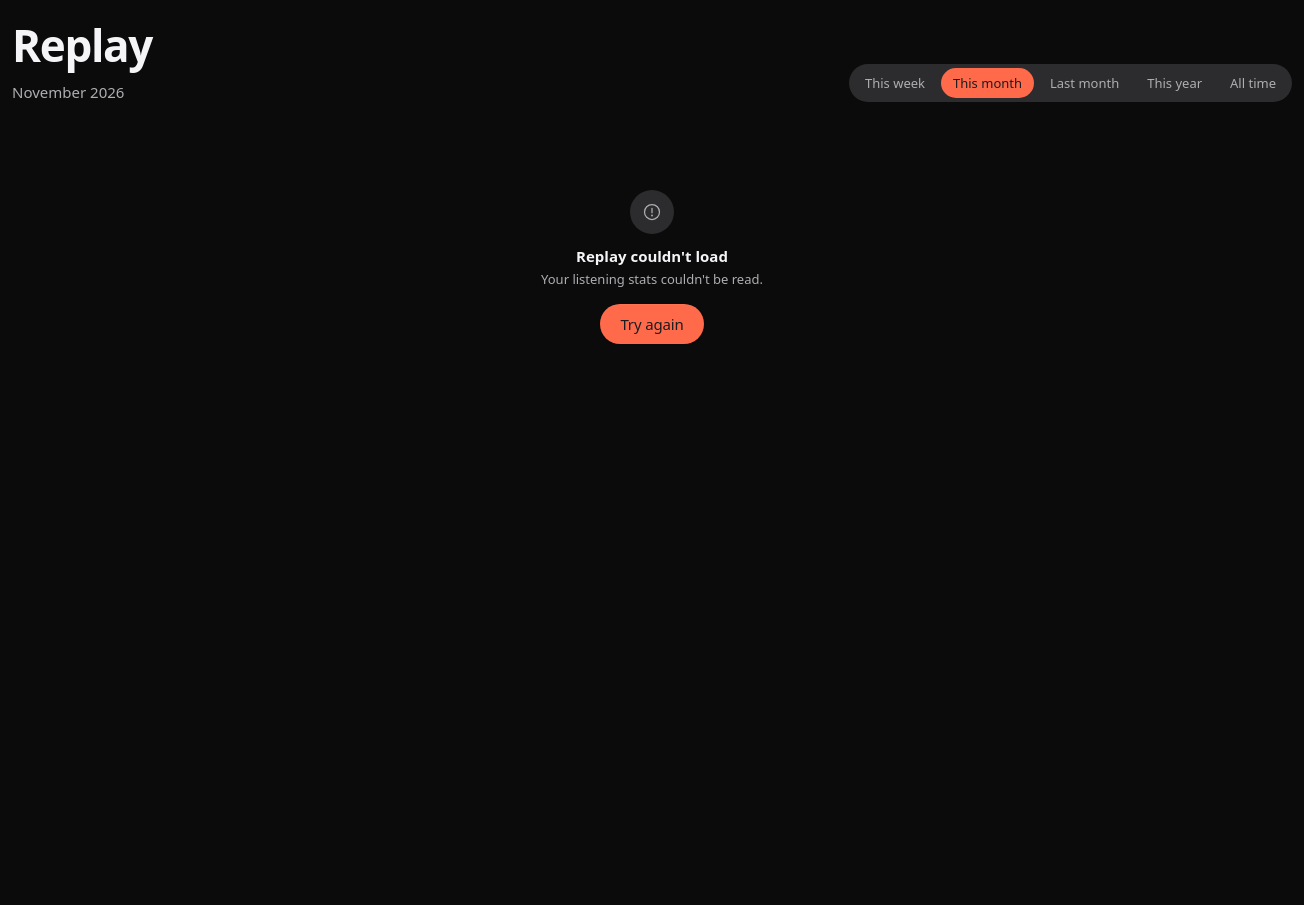
ReplayView states › shows the error state and retries on request
The width and height of the screenshot is (1304, 905).
Check: the heading "Replay couldn't load" is shown, box [576,246,728,266]
Click the button "Try again": x=652, y=324 [600,304,704,344]
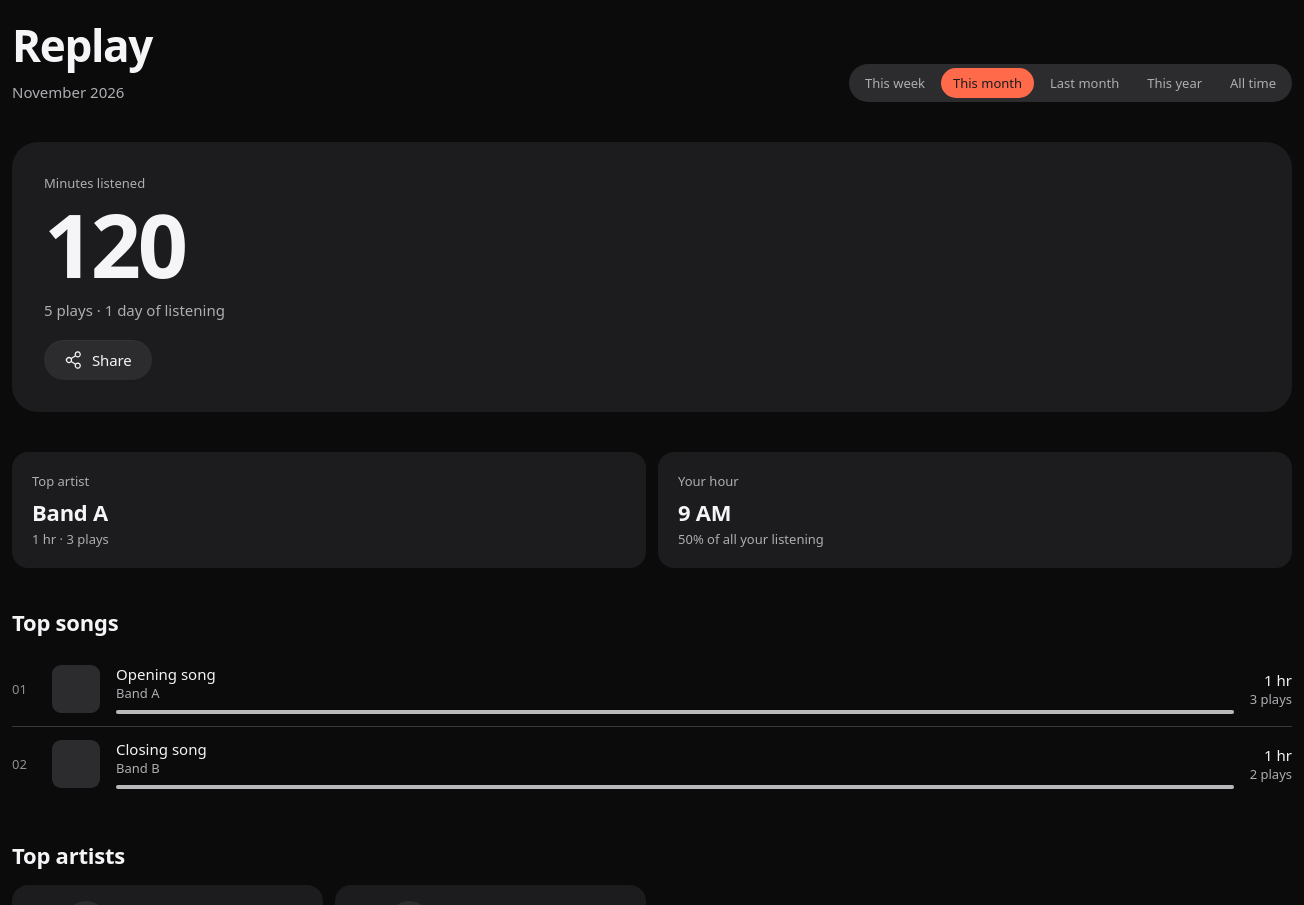
Check: the heading "Top songs" is shown, box [12,607,118,637]
